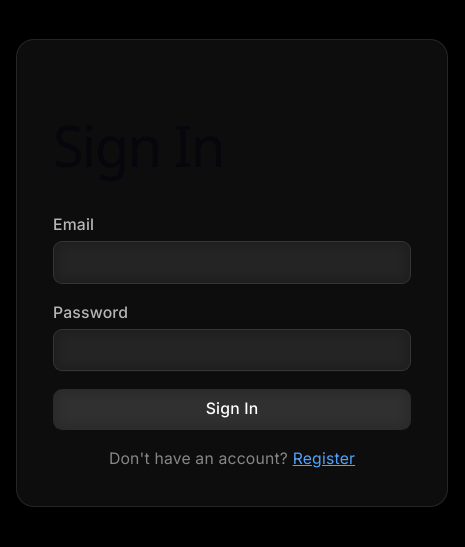
Test: Login flow › shows validation errors for empty fields on submit
The width and height of the screenshot is (465, 547).
Click the button "Sign In": x=232, y=410 [53,389,411,430]
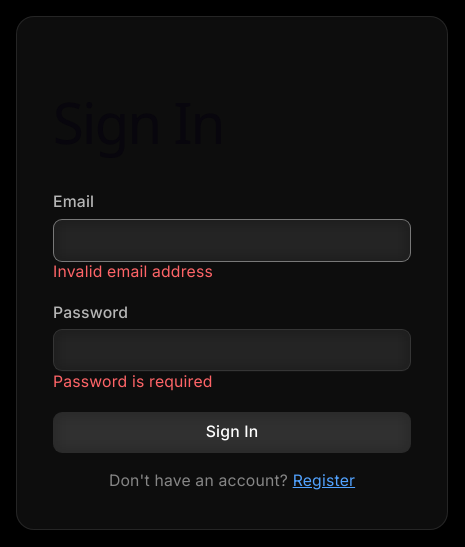
Result: the text "Invalid email address" is shown at [53,262,213,281]
Result: the text "Password is required" is shown at [53,372,213,391]
